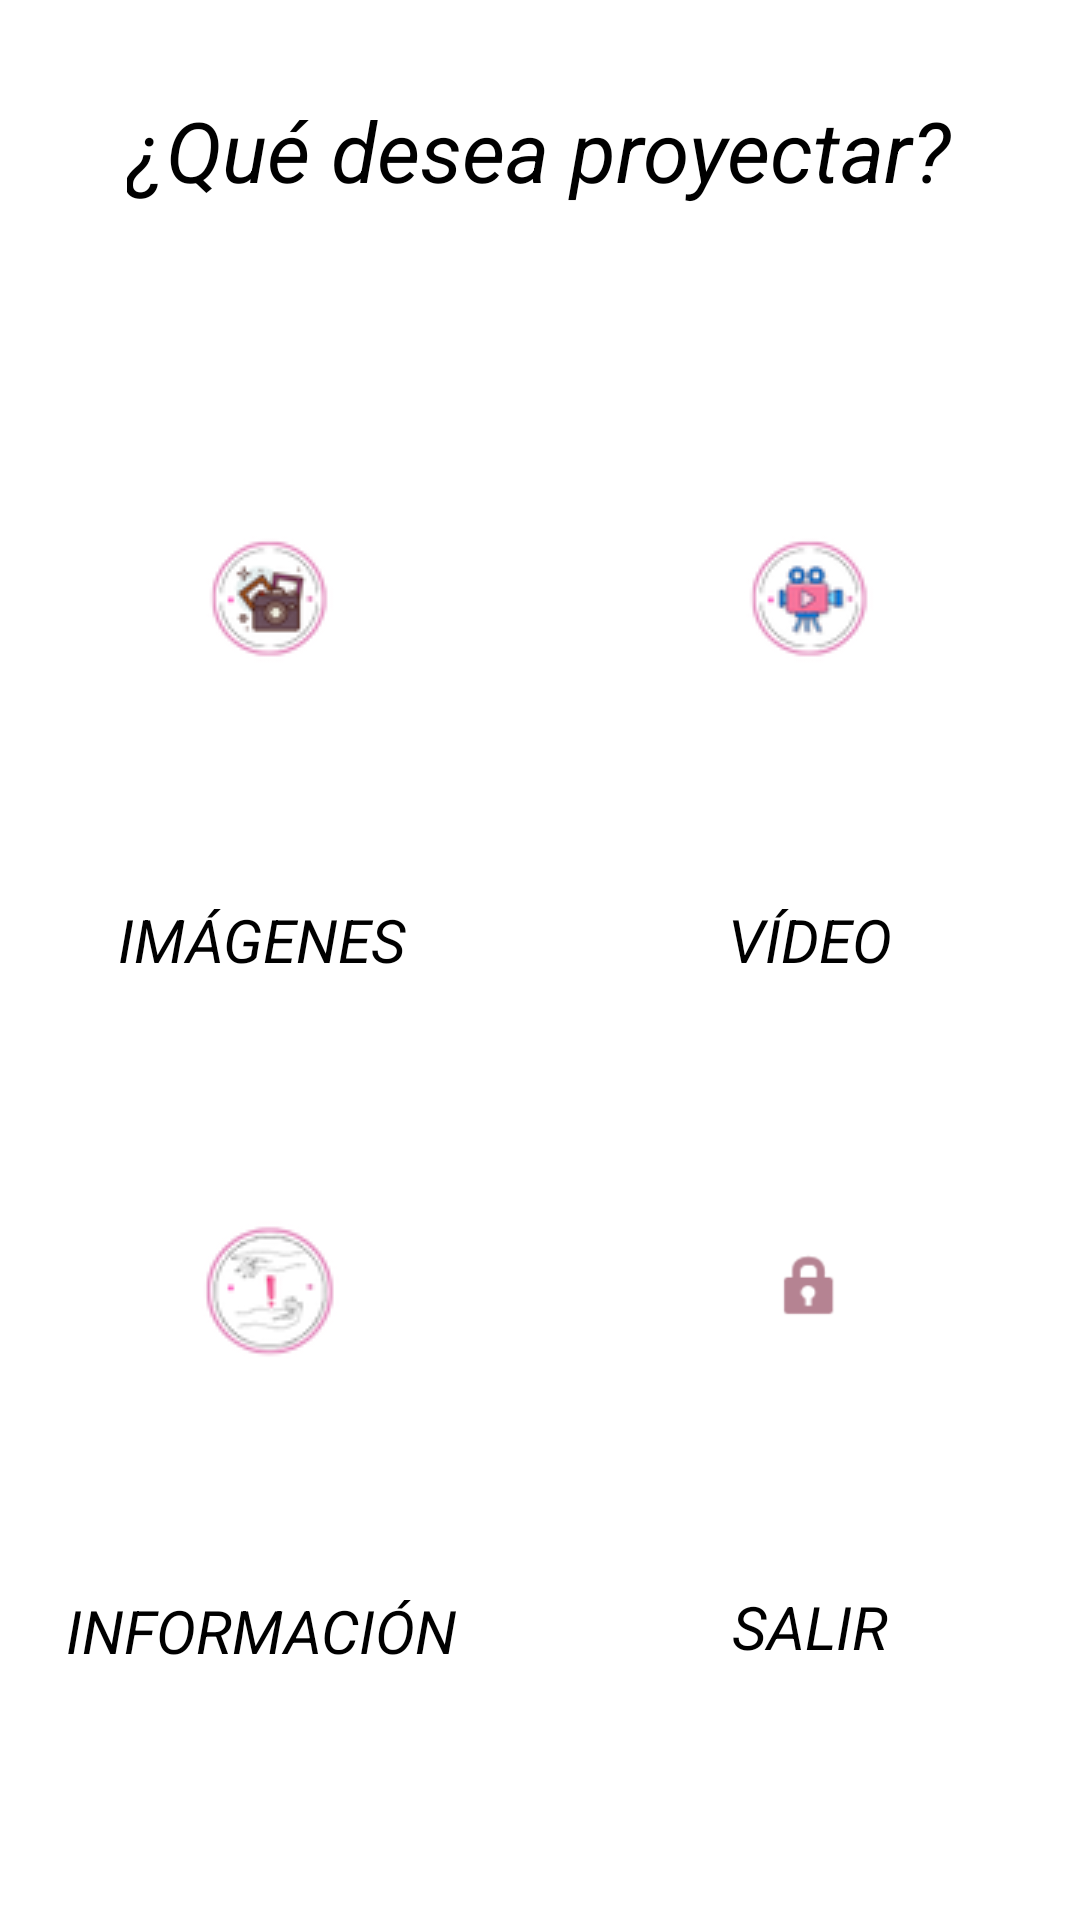

Icon bounding boxes for this 1080x1920 phone screenshot, format (x1, y1, x2, y2):
foto: (212, 541, 327, 656)
lock idle: (784, 1256, 834, 1314)
video: (752, 541, 867, 656)
